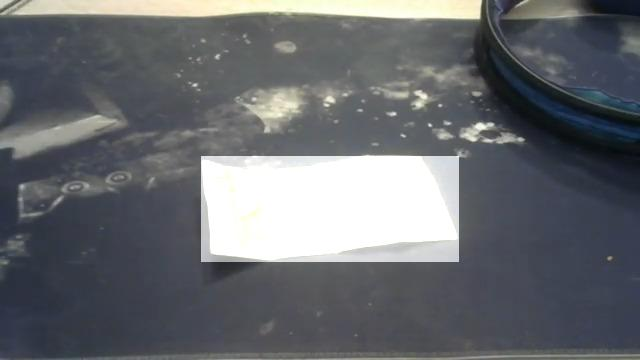10leva: (201, 156, 459, 262)
